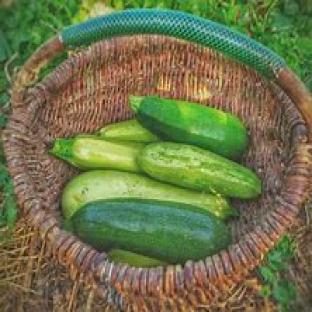Zucchini: (72, 200, 230, 263), (62, 171, 237, 219), (131, 97, 247, 160), (138, 142, 260, 199), (51, 135, 143, 172), (99, 120, 158, 143), (109, 250, 165, 268)
